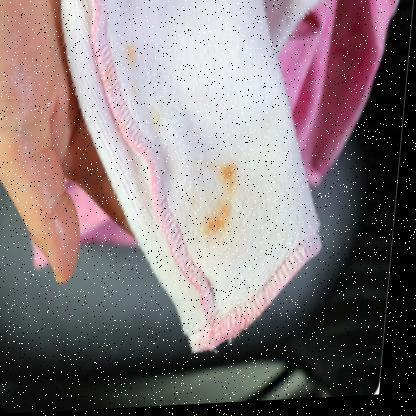kimchi: (199, 205, 239, 241), (216, 156, 246, 191), (116, 40, 130, 63)
